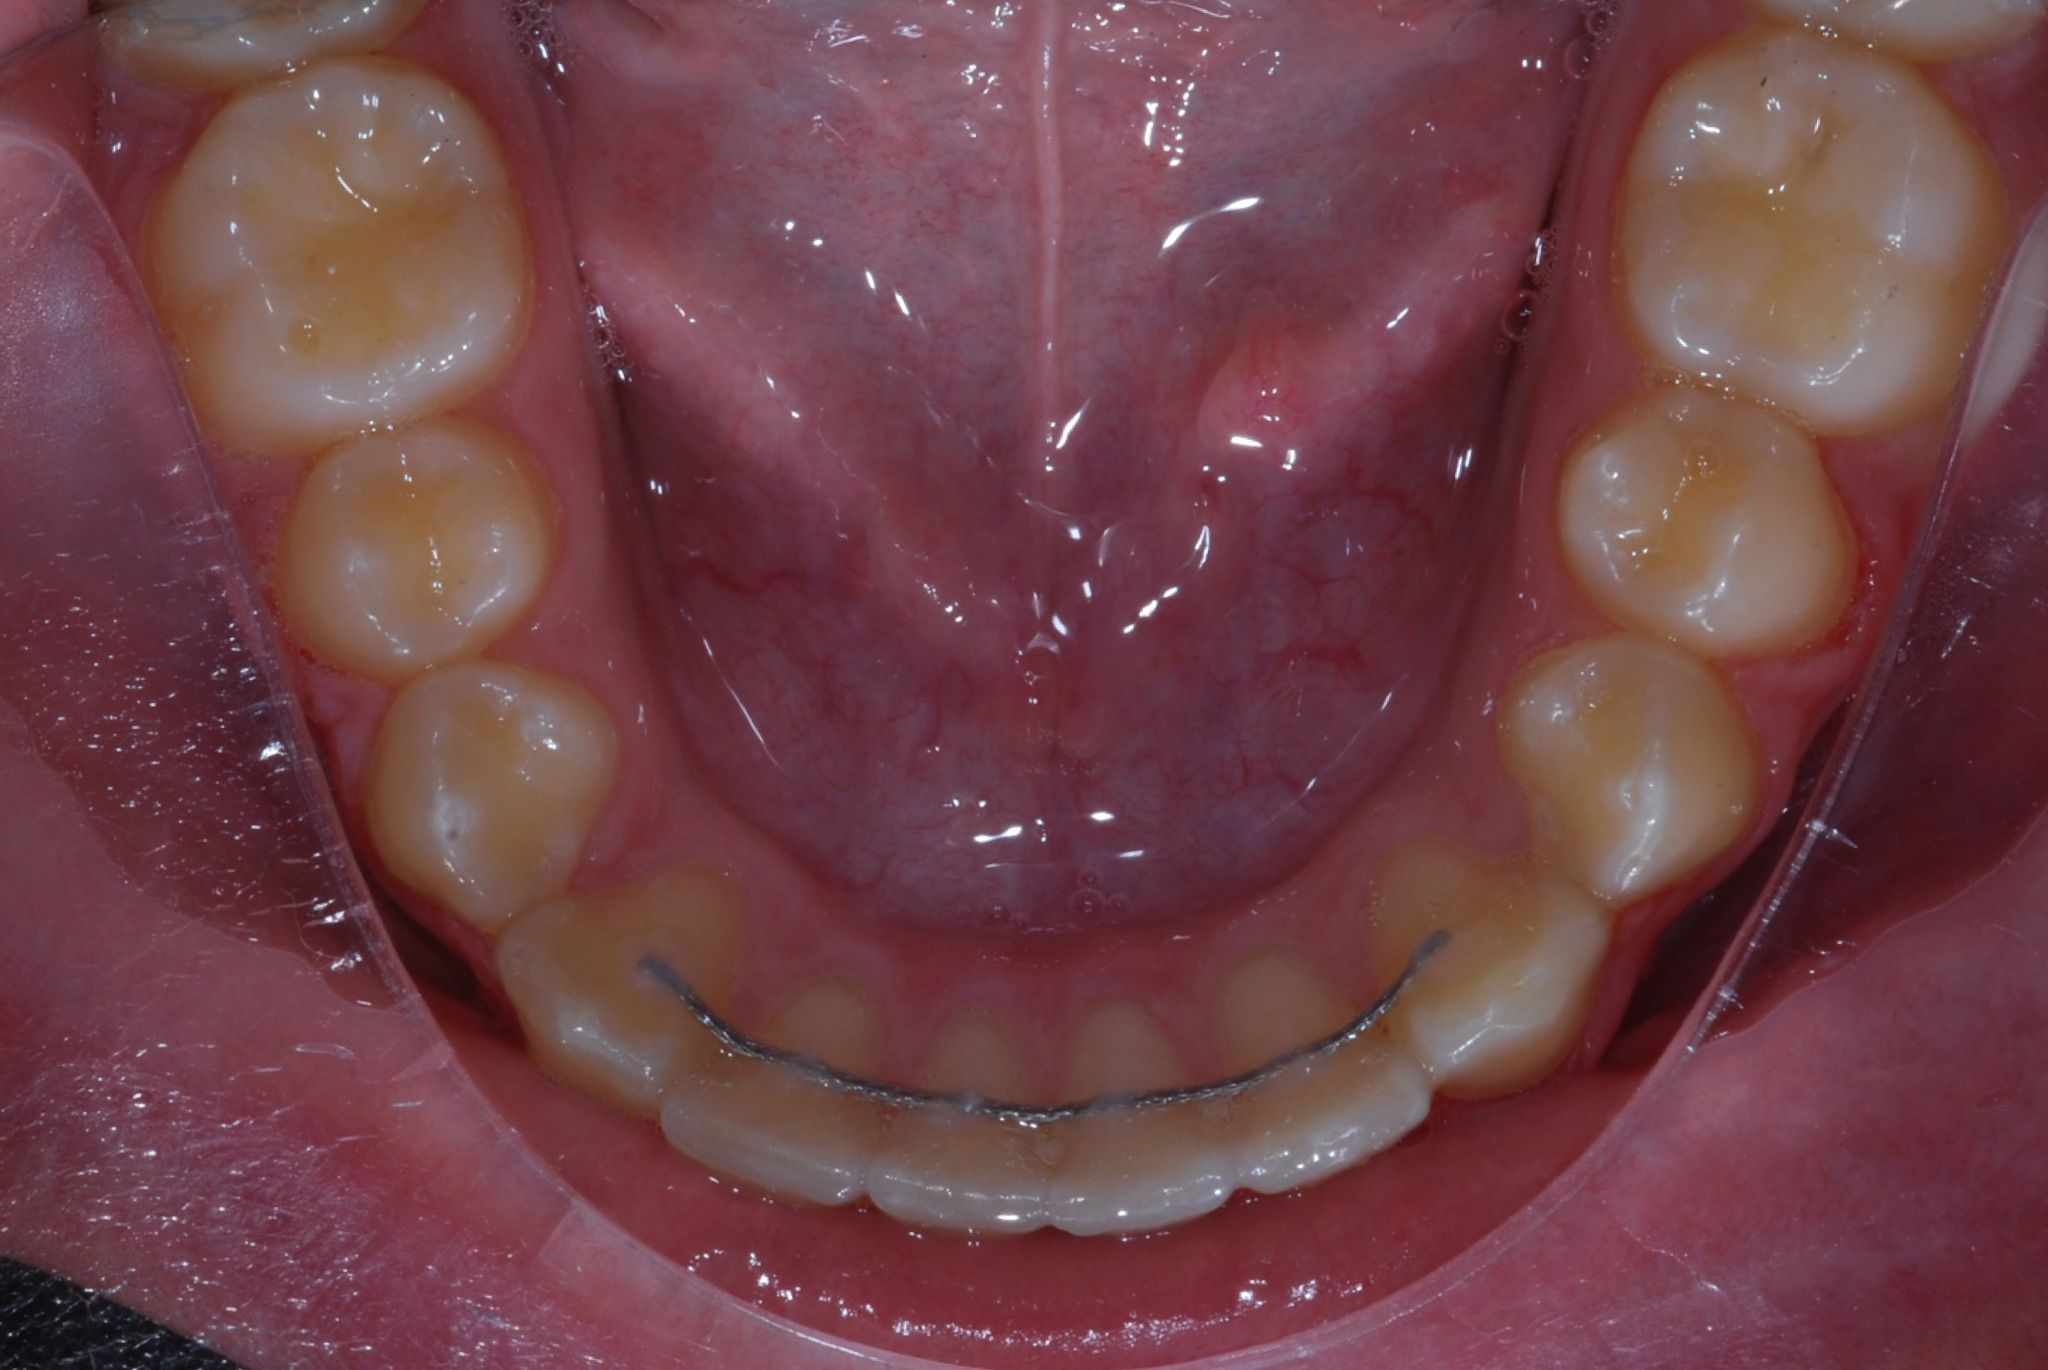LL1BC_healthy: (1492, 638, 1761, 913)
LL1M_healthy: (1591, 57, 2004, 446)
LL2BC_healthy: (1548, 401, 1862, 656)
LLCI_decay: (1038, 991, 1233, 1243)
LLC_decay: (1356, 841, 1608, 1099)
LLLI_decay: (1230, 925, 1434, 1190)
LR1BC_healthy: (348, 650, 637, 937)
LR1M_healthy: (164, 67, 515, 456)
LR2BC_healthy: (277, 434, 555, 665)
LRCI_decay: (873, 1008, 1039, 1245)
LRC_decay: (497, 867, 753, 1112)
LRLI_decay: (656, 985, 893, 1213)
